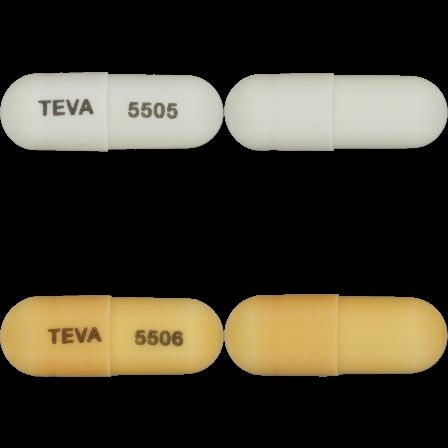0093-5505: (0, 0, 224, 224)
